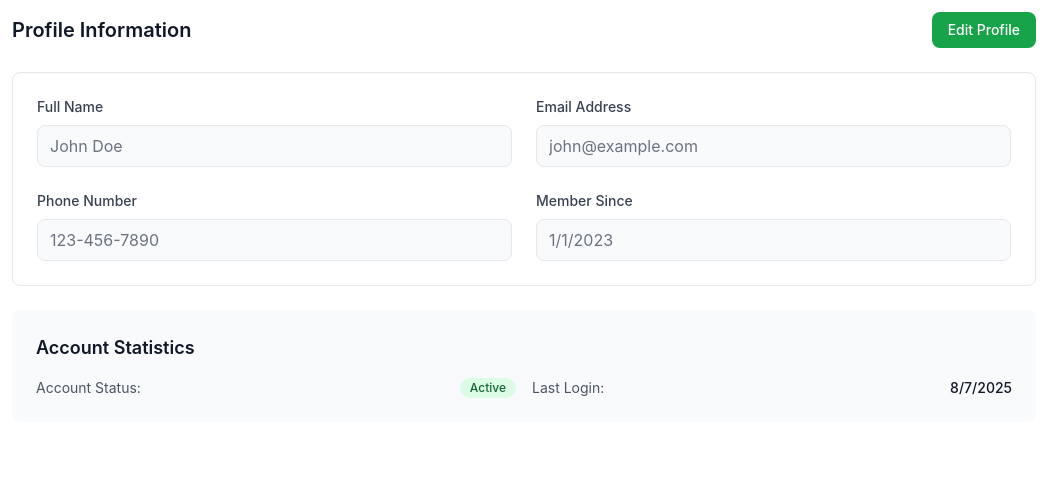
it: ProfileEdit › successfully updates profile
Click the button "Edit Profile". click: (984, 30)
box: [932, 12, 1036, 48]
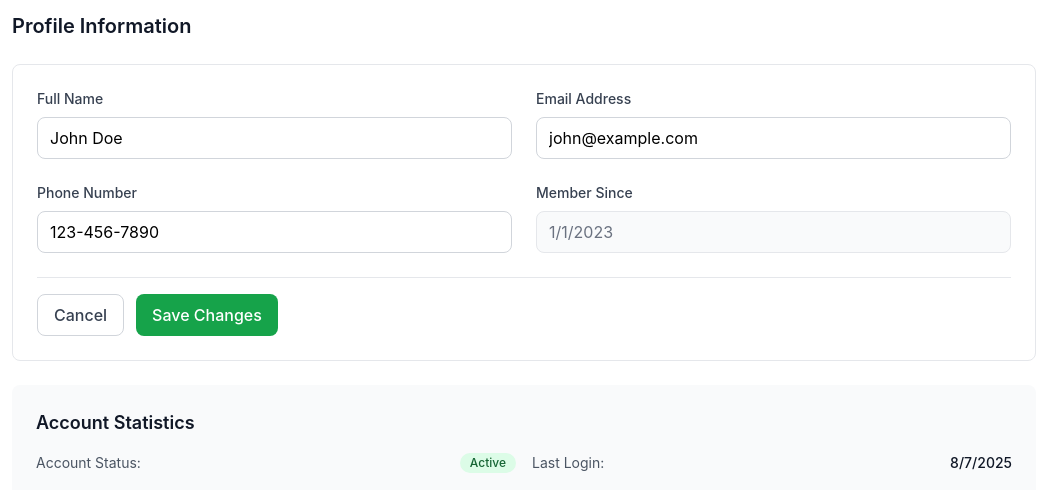
Replace the text in the field showing "John Doe" with "Jane Doe". click: (274, 138)
box: [37, 117, 512, 159]
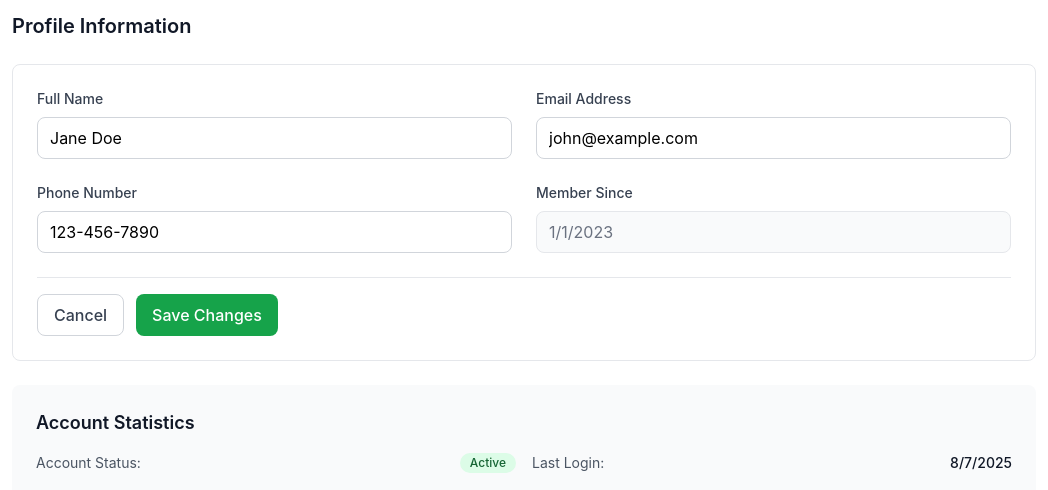
Click the button "Save Changes". click: (207, 315)
box: [136, 294, 278, 336]
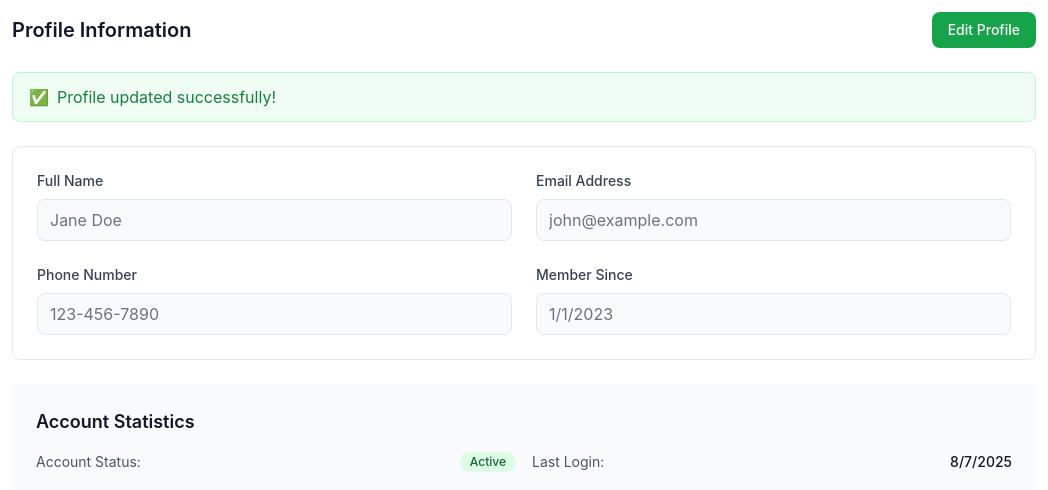
expect the text "Profile updated successfully!" is shown: met, box [57, 85, 276, 109]
